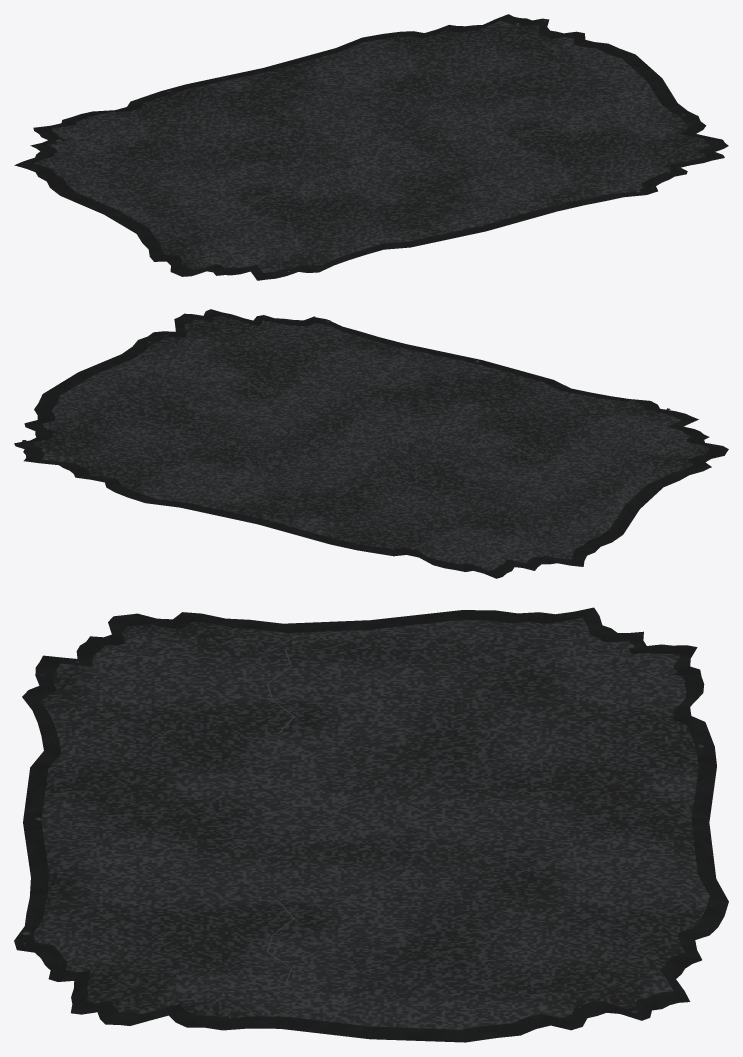
Rendered from asphalt-repair-2m.glb.
The picture shows the model from 3 angles, top to bottom: view 1: azimuth 30°, elevation 25°; view 2: azimuth 150°, elevation 25°; view 3: azimuth 270°, elevation 25°; orthographic projection. The views are drawn at different scales.
Parts seen in each view (by area): view 1: Irregular flush asphalt repair, Exposed millimetre aggregate chips; view 2: Irregular flush asphalt repair, Exposed millimetre aggregate chips; view 3: Irregular flush asphalt repair, Exposed millimetre aggregate chips.
Part boxes in pixels (bbox=[...]): Irregular flush asphalt repair: bbox=[14, 14, 728, 280]; Exposed millimetre aggregate chips: bbox=[55, 20, 690, 271]; Irregular flush asphalt repair: bbox=[14, 309, 728, 578]; Exposed millimetre aggregate chips: bbox=[22, 316, 686, 562]; Irregular flush asphalt repair: bbox=[14, 607, 728, 1042]; Exposed millimetre aggregate chips: bbox=[21, 627, 704, 1018].
Bounding box in the file's own units: 2.16 × 0.0134 × 1.5.
Materials: 3 (2 with a texture image).
